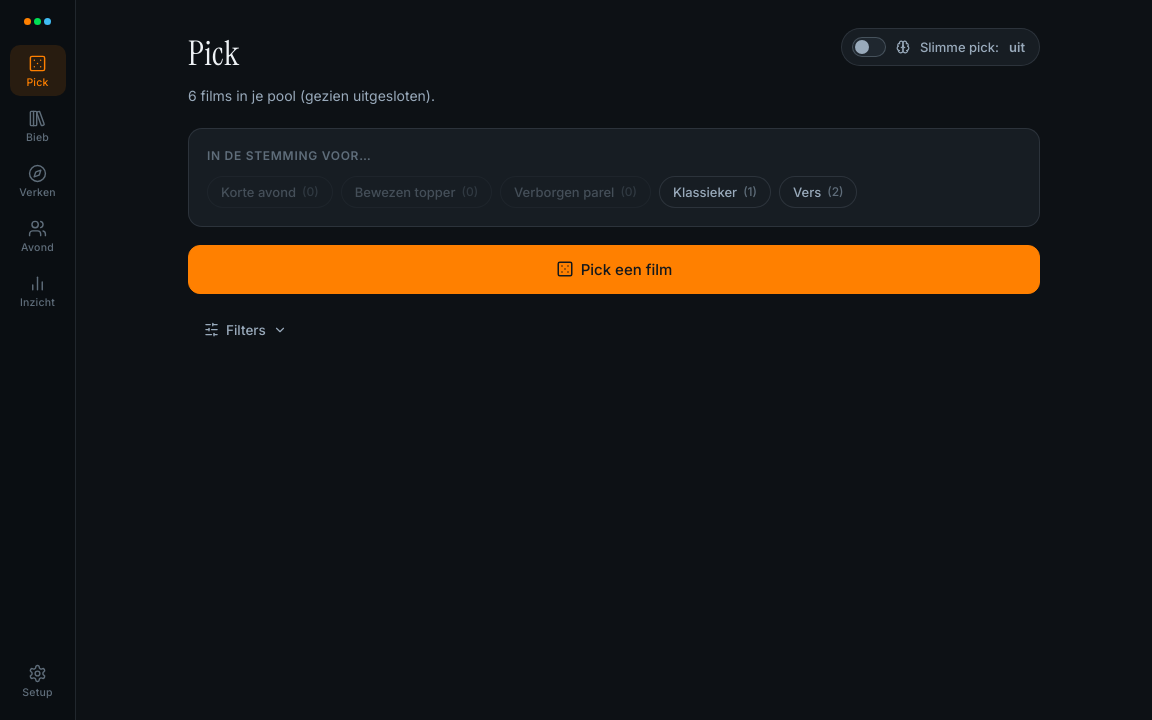
Test case: V2 smoke › bieb: zoeken, sorteren en film openen met Nossy-score
The width and height of the screenshot is (1152, 720).
Click the button labelled "Bieb" at [38, 126], box [10,100,66,151]
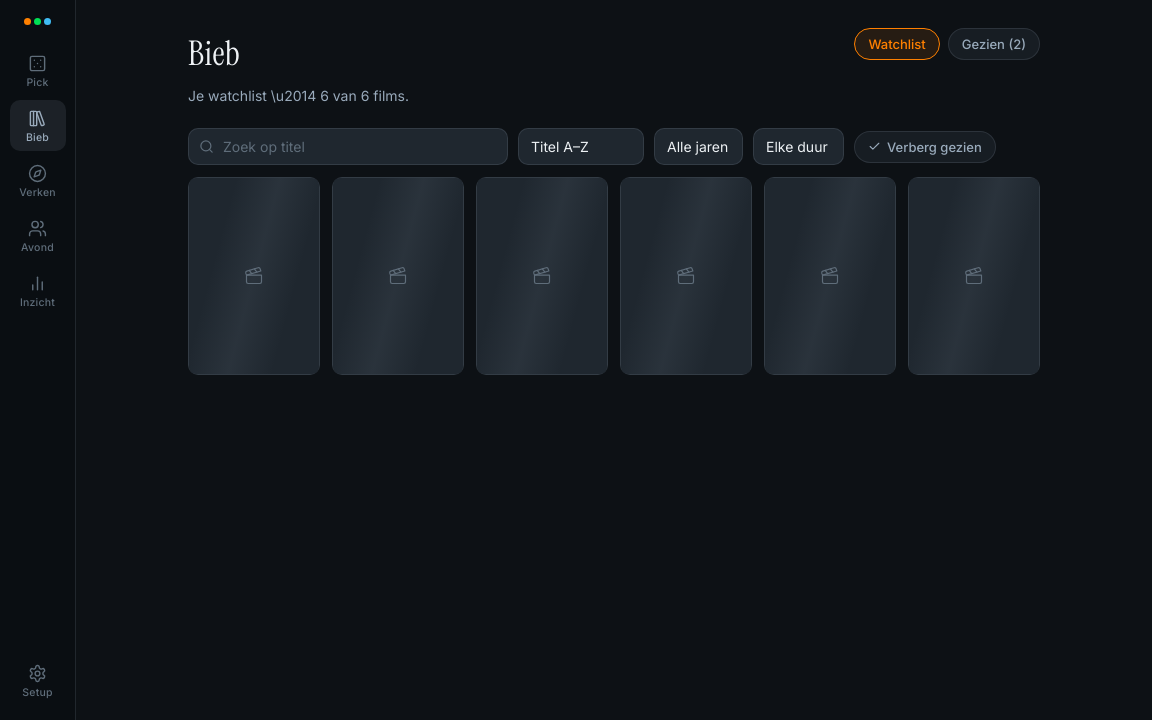
Expected: the text "6 van 6 films" is shown, [320,87,405,104]
Type "stalker" into the field named "Zoek in je bieb" at [348, 147], box [188,128,508,165]
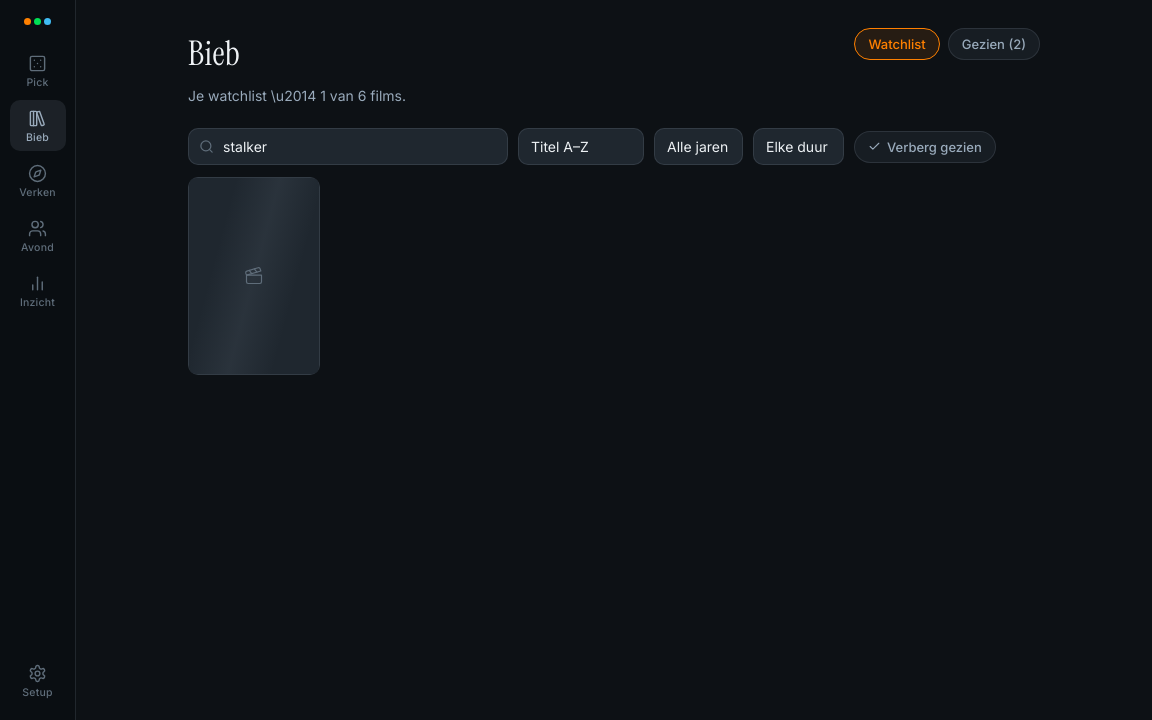
Expected: the text "1 van 6 films" is shown, [320,87,402,104]
Click the button named "Open Stalker" at [254, 276], box [188,177,320,375]
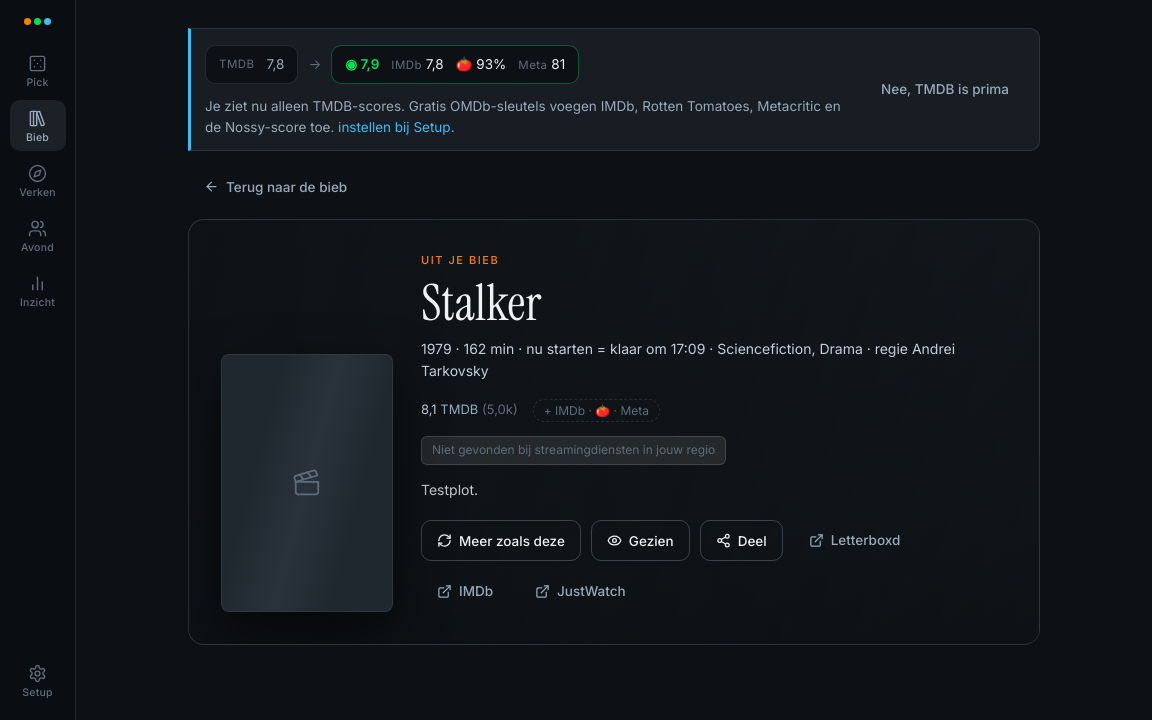
Expected: the text "Uit je bieb" is shown, [421,253,499,267]
Expected: the text "Terug naar de bieb" is shown, [188,169,363,205]
